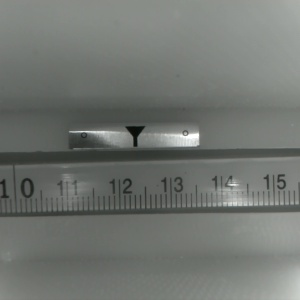0: (20, 178, 34, 198)
1: (1, 178, 9, 199), (70, 180, 77, 196), (262, 174, 269, 189), (108, 179, 115, 194), (160, 177, 167, 192), (56, 180, 62, 196), (211, 176, 217, 190)
2: (122, 178, 132, 193)
3: (173, 177, 183, 192)
5: (276, 174, 286, 189)
finger: (123, 126, 145, 148)
